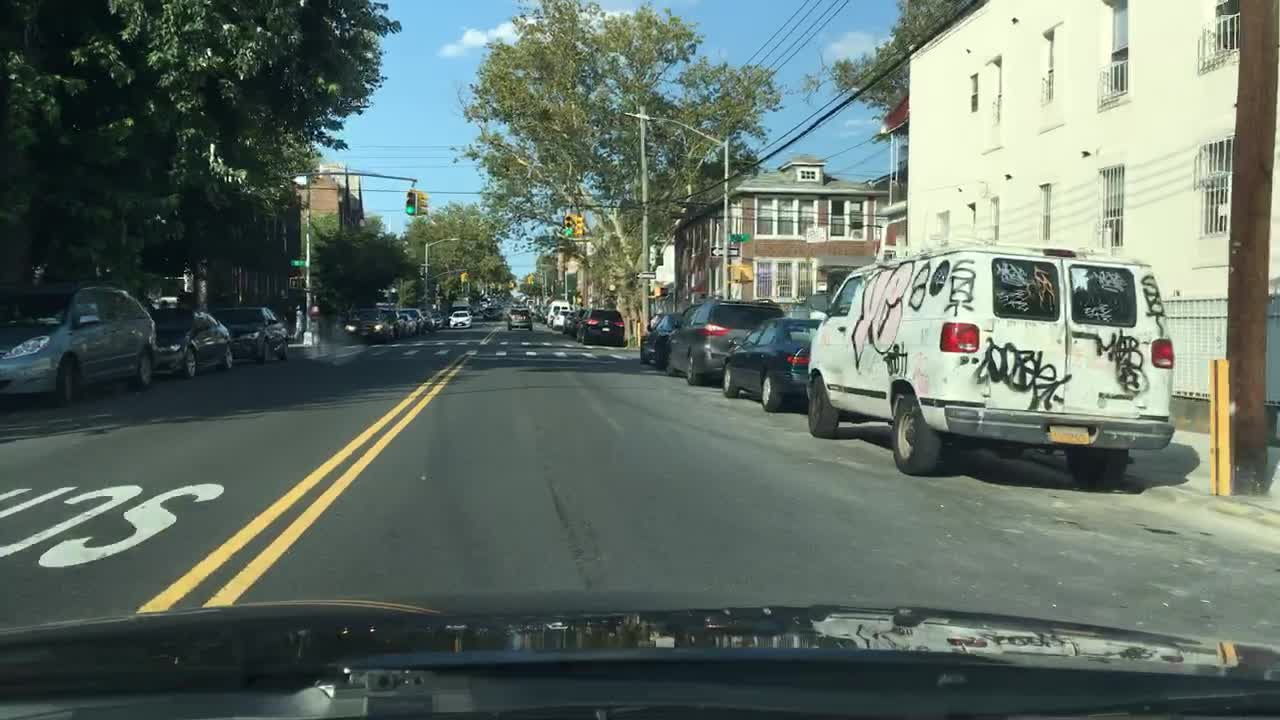car: (803, 242, 1180, 493), (0, 280, 160, 409), (662, 298, 785, 386), (721, 315, 826, 414), (148, 306, 234, 381), (209, 303, 289, 363), (639, 307, 684, 371), (345, 303, 397, 343), (574, 305, 622, 348), (503, 306, 535, 335), (382, 298, 405, 336), (402, 307, 428, 332), (561, 307, 585, 331), (448, 308, 473, 331), (451, 298, 478, 316), (400, 313, 418, 340), (548, 301, 570, 323), (551, 310, 574, 331), (420, 308, 438, 332), (484, 301, 505, 321), (432, 311, 448, 330), (478, 293, 495, 310), (456, 291, 476, 303), (475, 298, 490, 312), (538, 303, 549, 322), (488, 290, 506, 301), (509, 295, 525, 307), (526, 301, 541, 313), (523, 296, 535, 308), (510, 298, 525, 307), (536, 306, 544, 321)
person: (291, 304, 304, 340)
traffic light: (726, 264, 754, 284), (561, 210, 574, 237), (416, 189, 430, 214), (286, 275, 309, 289), (404, 189, 416, 214), (649, 285, 669, 299), (574, 215, 585, 234), (525, 273, 537, 285), (459, 272, 469, 281), (508, 279, 515, 290)
traffic sign: (709, 245, 739, 257), (727, 230, 748, 243), (634, 269, 658, 279), (291, 259, 314, 267)
